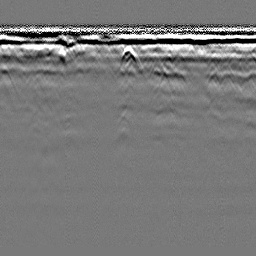cavity: (116, 45, 141, 68)
